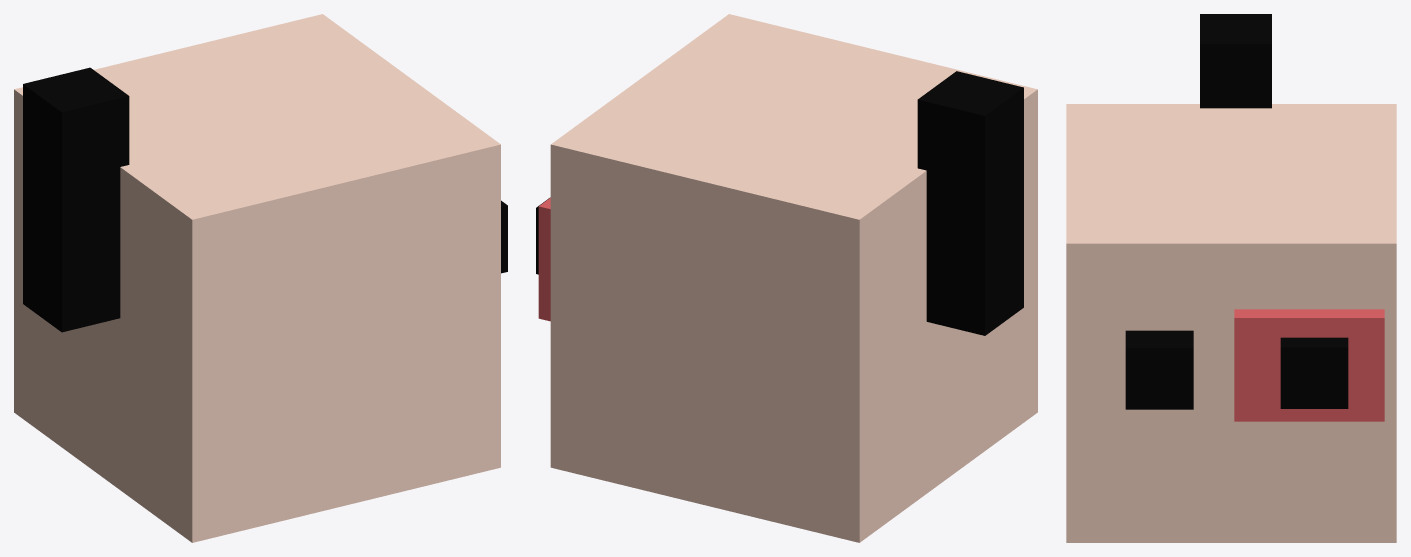
File: zukko.fbx
3 views of the same model, side by side, from view 1: azimuth 30°, elevation 25°; view 2: azimuth 150°, elevation 25°; view 3: azimuth 270°, elevation 25° (orthographic). The views are drawn at different scales.
Parts seen in each view (by area): view 1: cabeca 1, cabelo; view 2: cabeca 1, cabelo, quim; view 3: cabeca 1, quim, cabelo, olho 2, olho 1.
Boxes of the visible parts, <box> form: cabeca 1: <box>14,14,500,542</box>; cabelo: <box>23,67,129,332</box>; cabeca 1: <box>550,14,1037,542</box>; cabelo: <box>917,71,1023,335</box>; quim: <box>538,198,550,321</box>; cabeca 1: <box>1066,104,1396,542</box>; quim: <box>1234,309,1384,421</box>; cabelo: <box>1200,14,1271,108</box>; olho 2: <box>1125,330,1193,409</box>; olho 1: <box>1280,337,1348,408</box>.
Bounding box in the file's own units: 264 × 243 × 200.
